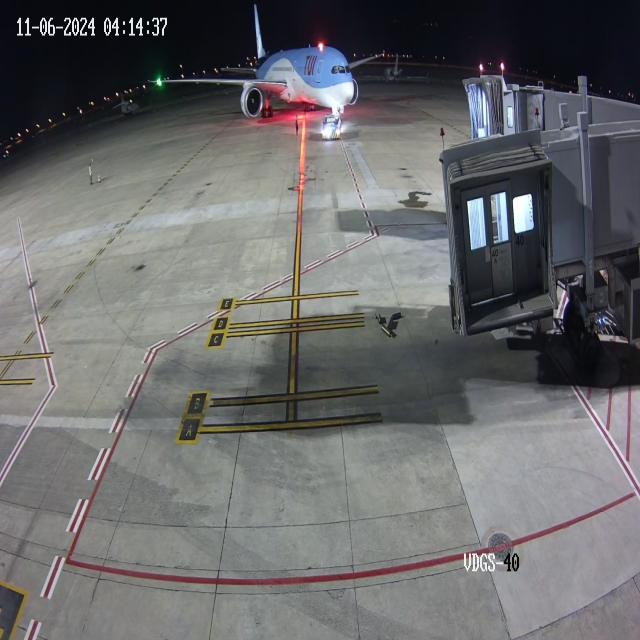bridge: (482, 75, 546, 142)
plane: (121, 0, 398, 145)
window: (329, 60, 354, 78)
